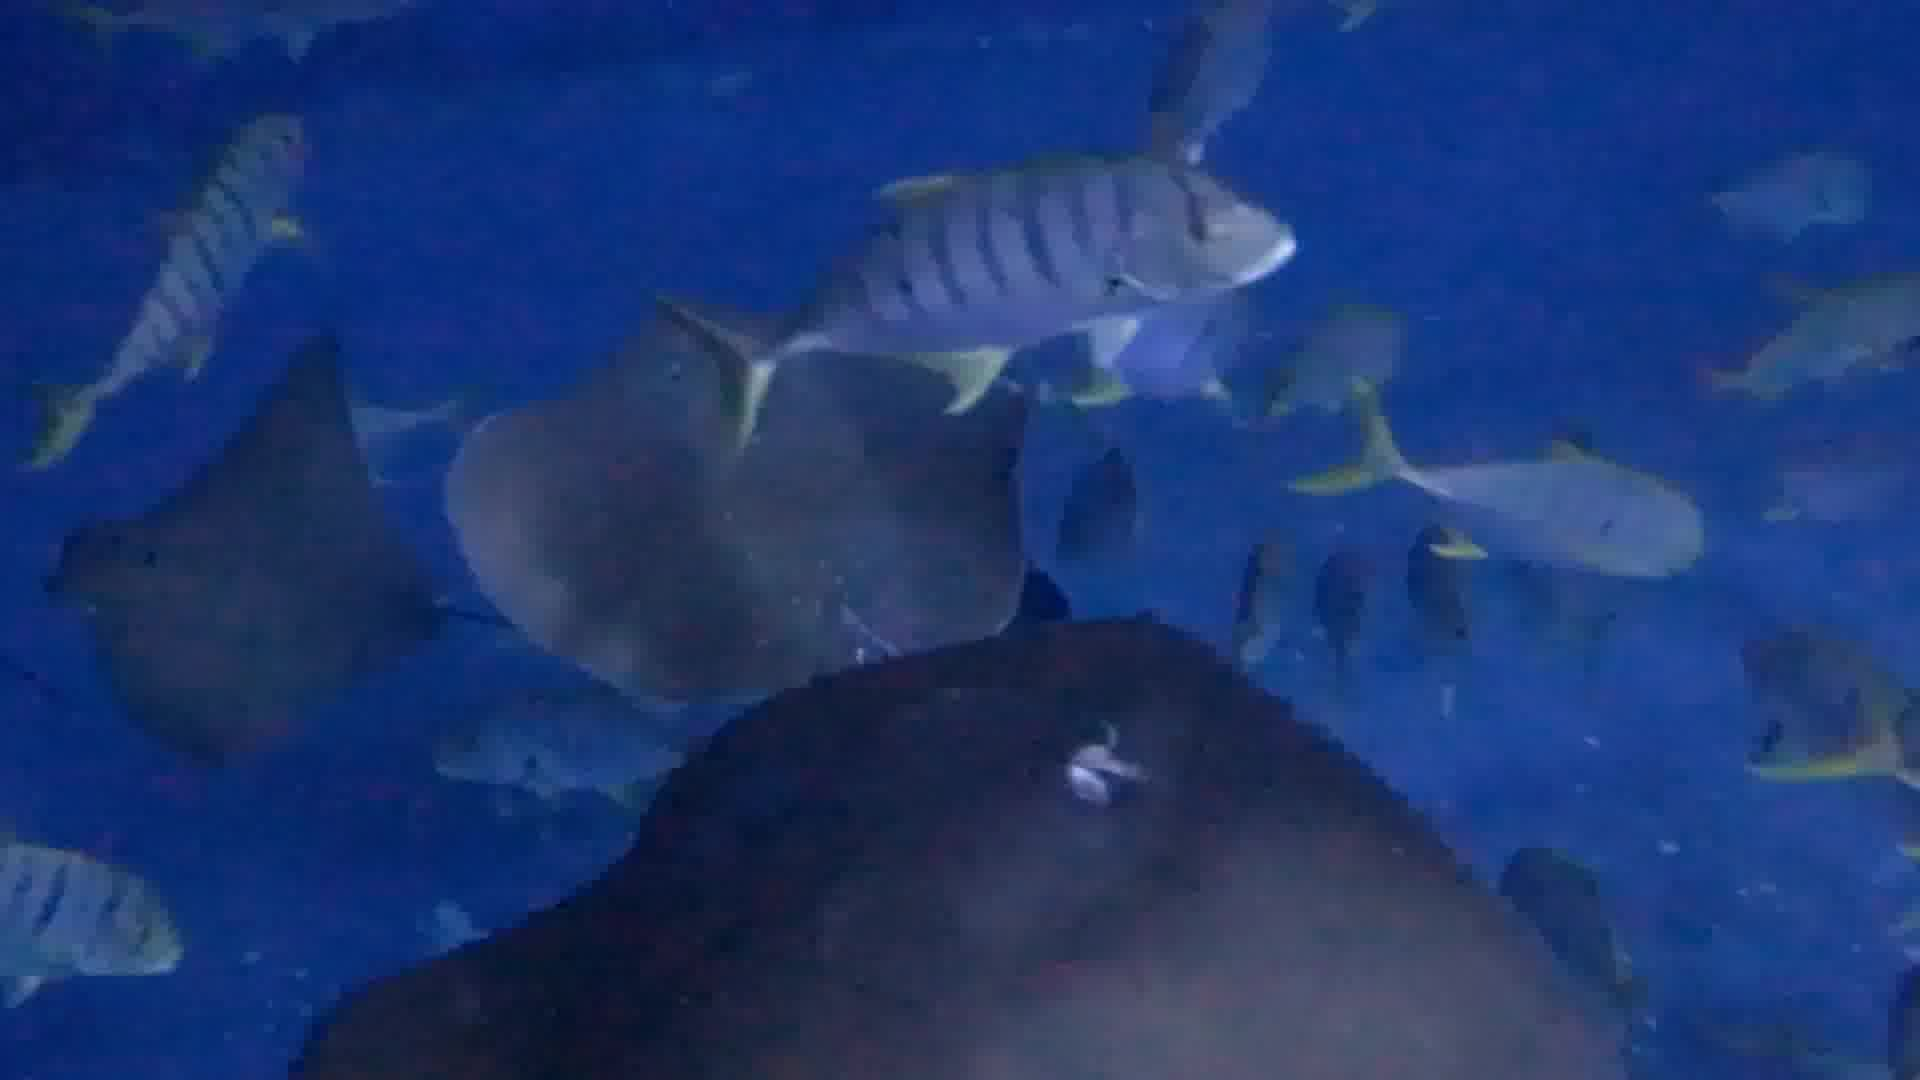Himantura gerrardi: (448, 291, 1062, 666)
